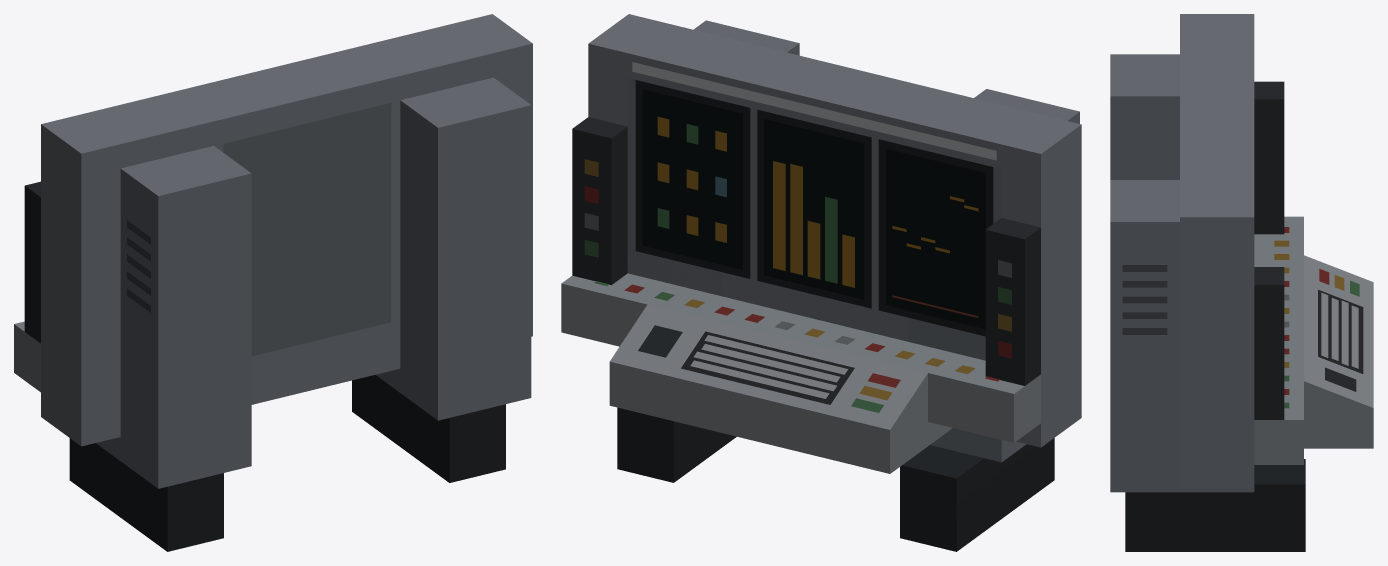
File: console.panel.grey.glb
The picture shows the model from 3 angles, left to right: view 1: azimuth 30°, elevation 25°; view 2: azimuth 150°, elevation 25°; view 3: azimuth 270°, elevation 25°; orthographic projection. The views are drawn at different scales.
Parts seen in each view (by area): view 1: console_panel_grey; view 2: console_panel_grey; view 3: console_panel_grey.
Boxes of the visible parts, x1=… form: console_panel_grey: x1=14, y1=14, x2=532, y2=551; console_panel_grey: x1=561, y1=14, x2=1081, y2=551; console_panel_grey: x1=1110, y1=14, x2=1373, y2=551.
Size of what is drawn, in the model's own units: 1.94 by 1.6 by 1.06.
